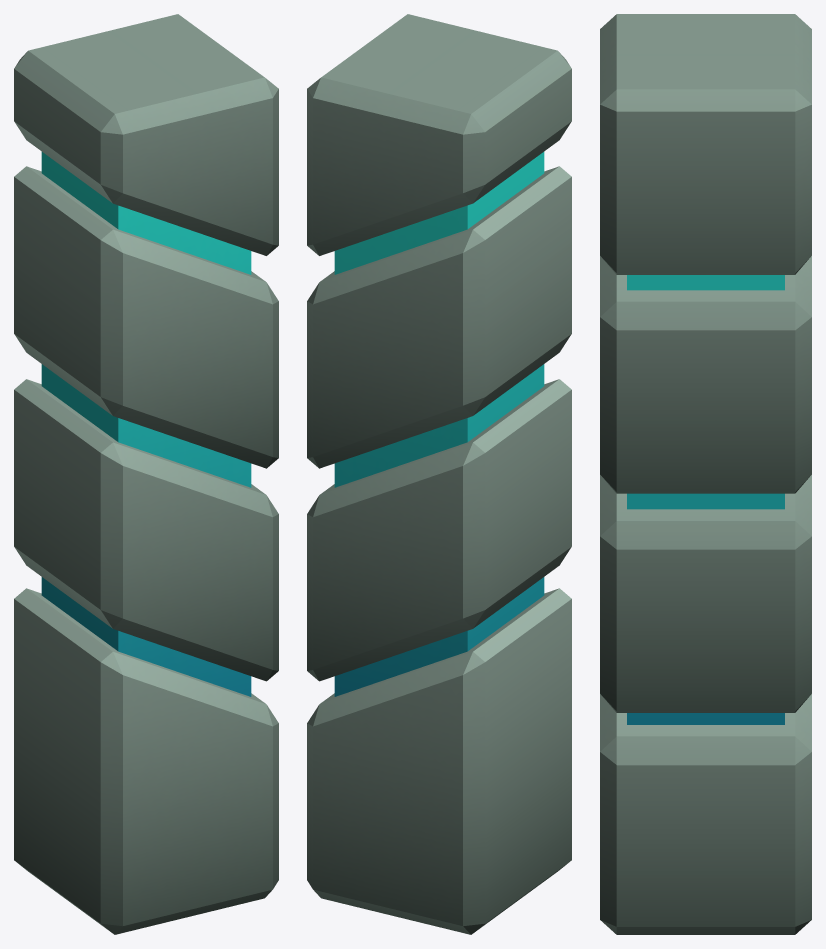
The picture shows the model from 3 angles, left to right: view 1: azimuth 30°, elevation 25°; view 2: azimuth 150°, elevation 25°; view 3: azimuth 270°, elevation 25°; orthographic projection. The views are drawn at different scales.
Visible parts, largest first — view 1: base.001; view 2: base.001; view 3: base.001.
Boxes of the visible parts, left/top/right/bottom form: base.001: left=14, top=14, right=278, bottom=934; base.001: left=307, top=14, right=571, bottom=934; base.001: left=600, top=14, right=811, bottom=934.
Size of the model in its own units: 157 by 691 by 157.
